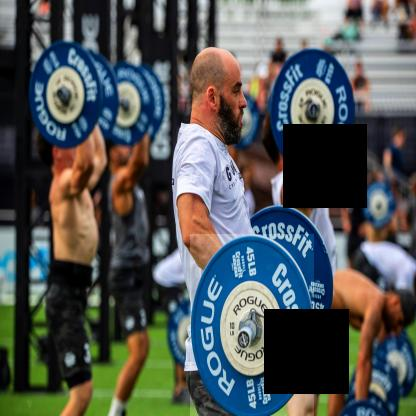barbell: (191, 235, 315, 416), (270, 49, 357, 175)
